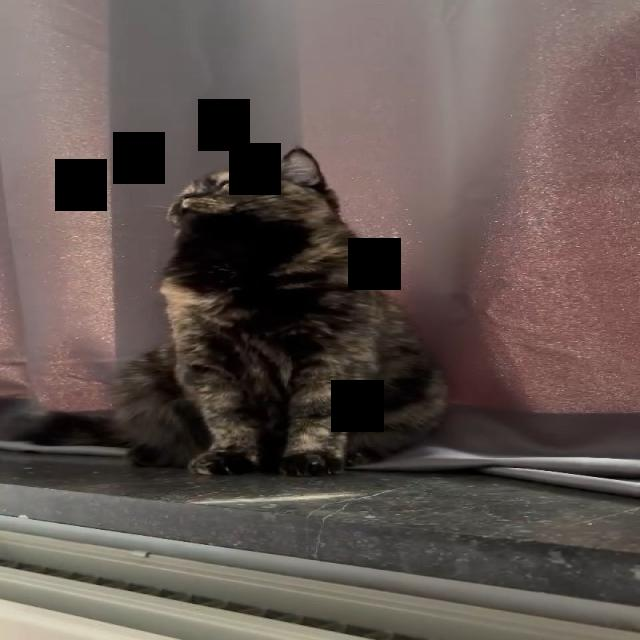authorized: (108, 146, 449, 477)
